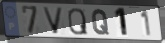1: (113, 7, 130, 39), (139, 10, 152, 38)
7: (20, 5, 40, 36)
Q: (67, 7, 89, 36), (91, 8, 111, 36)
V: (41, 6, 64, 36)
